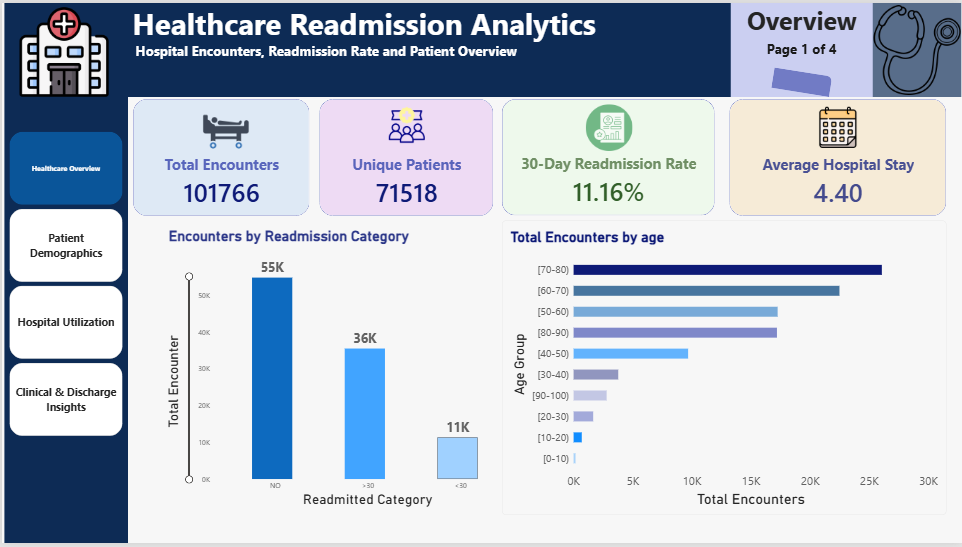

The dashboard page shown, as its layout file describes it:
{"tool":"powerbi","page":{"name":"Healthcare Overview","canvas":[1920,1080],"ordinal":0},"visuals":[{"type":"cardVisual","fields":{"Data":["healthcare_readmission_analytics readmissions.Total Encounters"]},"box":[261.9,192.9,352.4,233.3],"z":0},{"type":"image","box":[366.7,208.3,161.1,100],"z":1000},{"type":"cardVisual","fields":{"Data":["healthcare_readmission_analytics readmissions.Unique Patients"]},"box":[635.7,192.9,347.2,233.3],"z":2000},{"type":"image","box":[738.9,208.3,139.2,72.5],"z":3000},{"type":"cardVisual","fields":{"Data":["healthcare_readmission_analytics readmissions.30-Day Readmission Rate"]},"box":[1000,192.9,425.5,232.7],"z":4000},{"type":"image","box":[1166.7,202.8,93.4,93.4],"z":5000},{"type":"cardVisual","fields":{"Data":["healthcare_readmission_analytics readmissions.Average Hospital Stay"]},"box":[1454.8,192.9,433.3,233.3],"z":6000},{"type":"image","box":[1605.6,208.3,133.5,82],"z":7000},{"type":"clusteredColumnChart","title":"Encounters by Readmission Category","fields":{"Category":["healthcare_readmission_analytics readmissions.readmitted"],"Y":["CountNonNull(healthcare_readmission_analytics readmissions.encounter_id)"]},"box":[316.7,436.1,736.1,588.9],"z":8000},{"type":"barChart","fields":{"Category":["healthcare_readmission_analytics readmissions.age"],"Y":["healthcare_readmission_analytics readmissions.Total Encounters"]},"box":[1000,436.1,888.9,588.9],"z":9000},{"type":"textbox","box":[245.2,0,1673.8,188.1],"z":10000},{"type":"image","box":[0,0,214.3,1081],"z":11000},{"type":"image","box":[19,0,259.5,1081],"z":12000},{"type":"image","box":[35.7,7.1,178.6,181],"z":13000},{"type":"image","box":[1739,0,180.5,187.8],"z":14000},{"type":"shape","title":"Overview  ","box":[1458,0,284,188],"z":15000},{"type":"pageNavigator","box":[14,258,226,610],"z":15001}]}

Visuals, with their boxes in screenshot pixels (x1, y1, x2, y2), scaled from the page's 1920x1080 canvas onto the 962x547 screenshot:
cardVisual - healthcare_readmission_analytics readmissions.Total Encounters: rect(131, 98, 308, 216)
image: rect(184, 106, 264, 156)
cardVisual - healthcare_readmission_analytics readmissions.Unique Patients: rect(319, 98, 492, 216)
image: rect(370, 106, 440, 142)
cardVisual - healthcare_readmission_analytics readmissions.30-Day Readmission Rate: rect(501, 98, 714, 216)
image: rect(585, 103, 631, 150)
cardVisual - healthcare_readmission_analytics readmissions.Average Hospital Stay: rect(729, 98, 946, 216)
image: rect(804, 106, 871, 147)
"Encounters by Readmission Category" clusteredColumnChart: rect(159, 221, 527, 519)
barChart - healthcare_readmission_analytics readmissions.age x healthcare_readmission_analytics readmissions.Total Encounters: rect(501, 221, 946, 519)
textbox: rect(123, 0, 961, 95)
image: rect(0, 0, 107, 546)
image: rect(10, 0, 140, 546)
image: rect(18, 4, 107, 95)
image: rect(871, 0, 961, 95)
"Overview  " shape: rect(731, 0, 873, 95)
pageNavigator: rect(7, 131, 120, 440)
